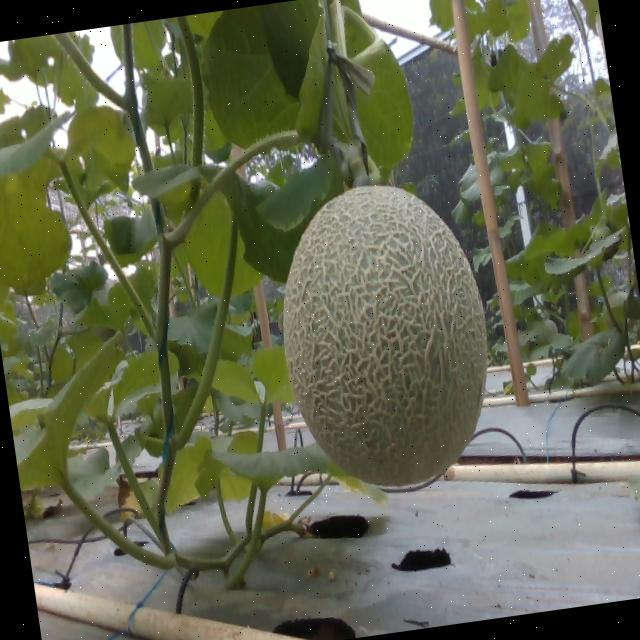melon: (285, 185, 488, 486)
